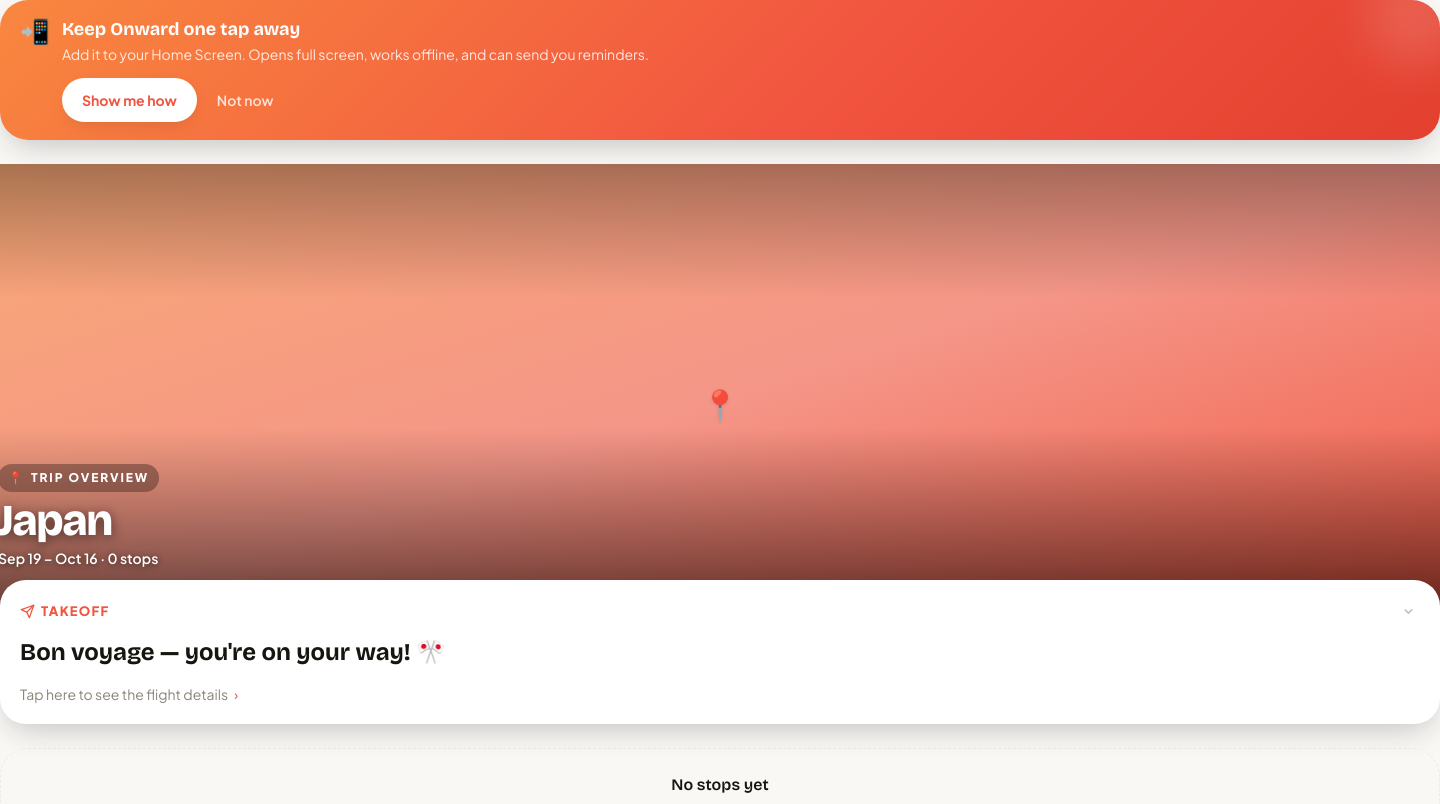
viewer — stays and flight › still shows the travelers the whole ticket
This screenshot has width=1440, height=804.
Step 1. Click the button "Tap here to see the flight details ›" → (129, 694), box [20,684,238,704]
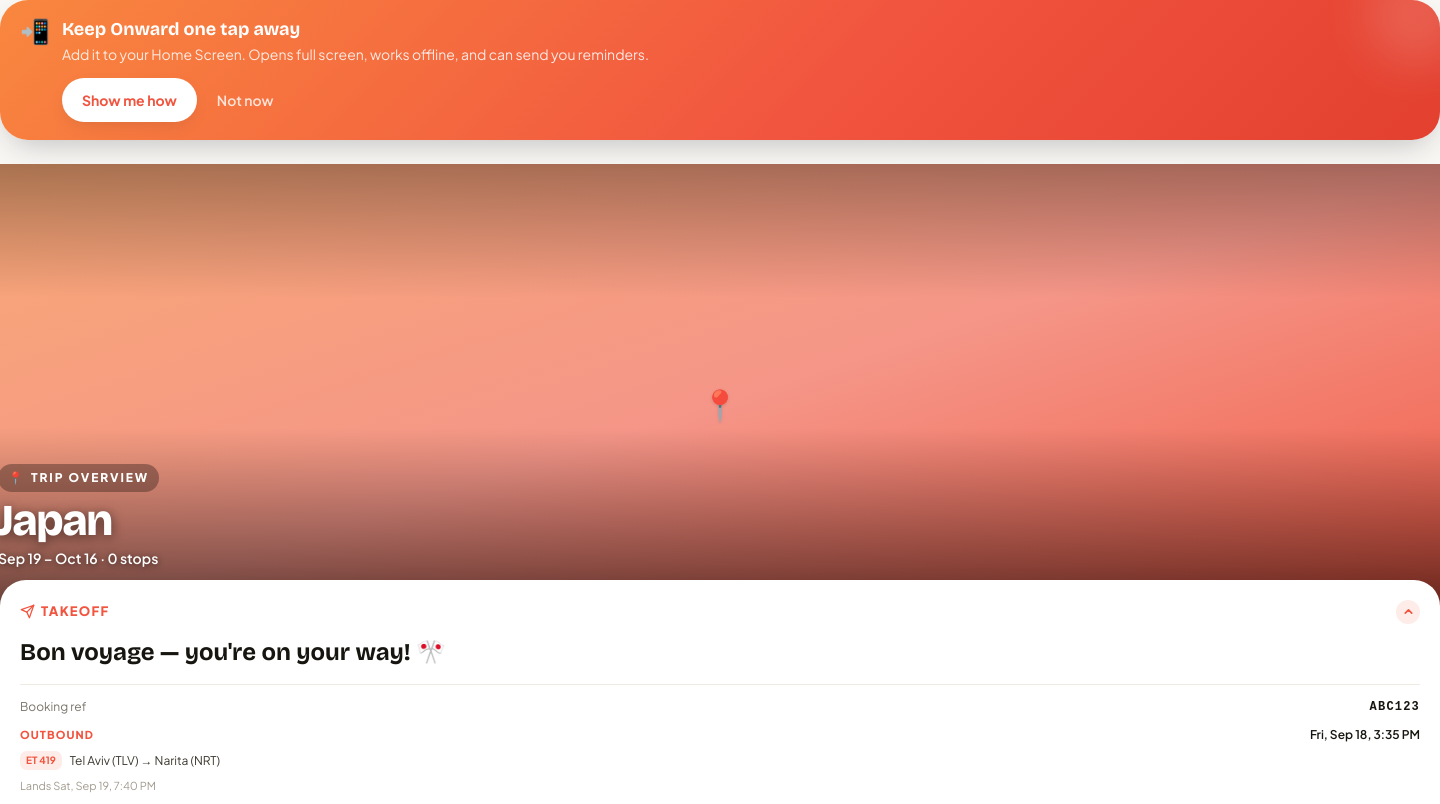
Expected: the text "ABC123" is shown, [1370,699,1420,715]
Expected: the text "ET 419" is shown, [20,751,62,770]
